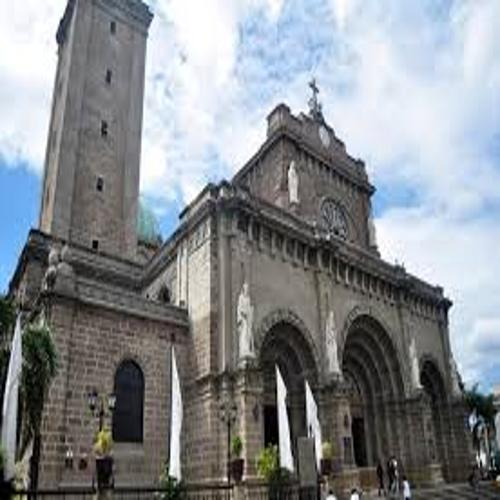Manila Cathedral Church: (8, 1, 473, 498)
